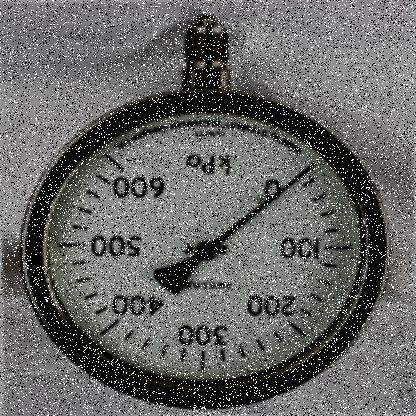needle: (210, 163, 316, 248)
